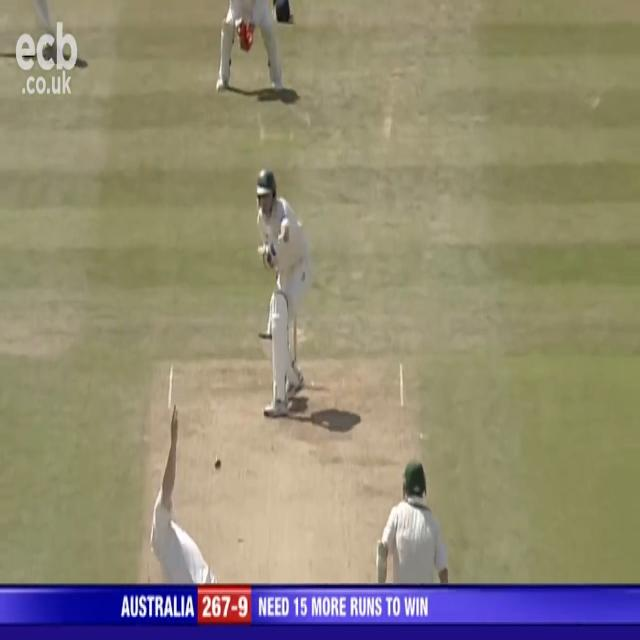ball: (212, 452, 224, 474)
